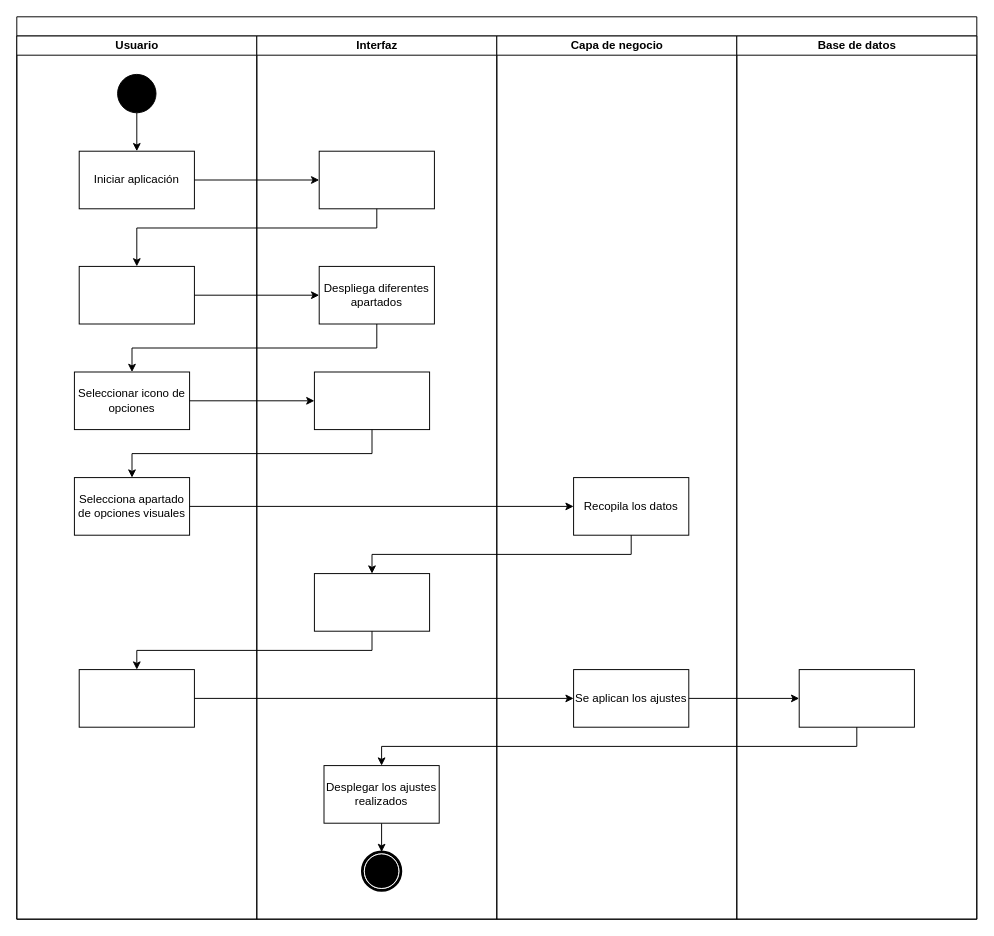
This 994x936 diagram has some shape labels left out. The shapes that lost their labels are listed below. From the top down, each one's centre as x and y in pixels, then its label:
At pixel 376 179: "Despliega apartado Menú principal".
At pixel 136 294: "Seleccionar apartado de información".
At pixel 371 400: "Despliega apartados de opciones".
At pixel 371 602: "Despliega opciones para ajustar la interfaz visual".
At pixel 136 698: "Realiza ajustes".
At pixel 856 698: "Se guardan los ajustes aplicados".
